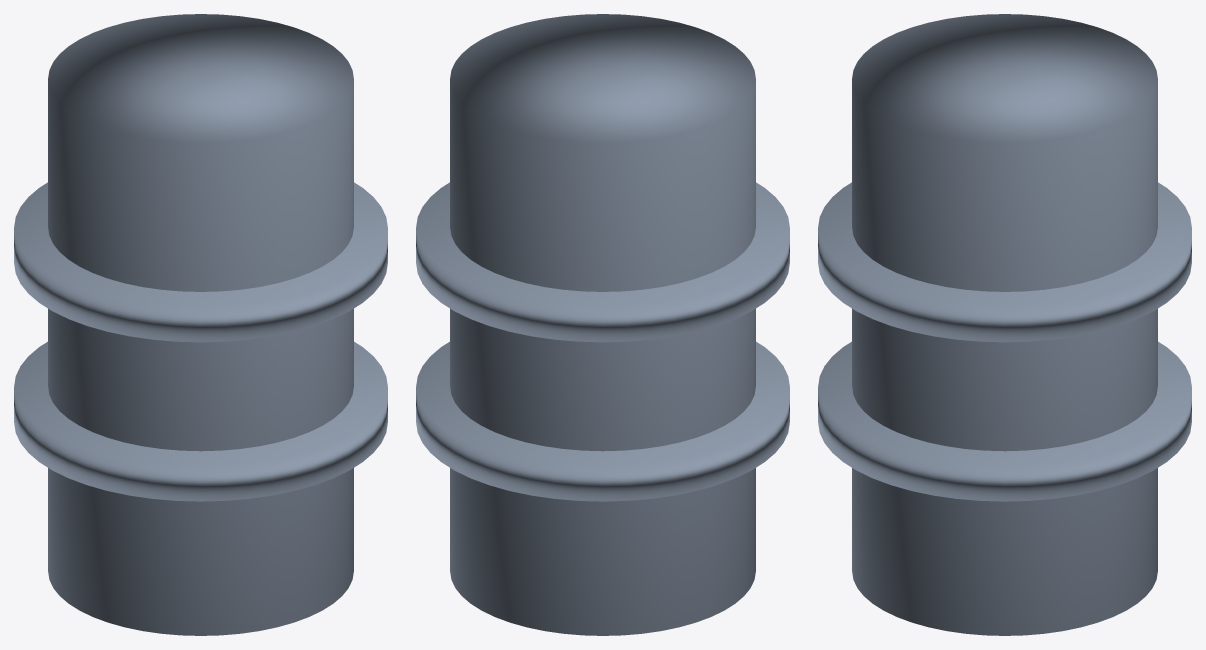
Rendered from SM_S4_Moyeu.obj.
The picture shows the model from 3 angles, left to right: view 1: azimuth 30°, elevation 25°; view 2: azimuth 150°, elevation 25°; view 3: azimuth 270°, elevation 25°; orthographic projection.
Bounding box in the file's own units: 11000 × 16000 × 11000.
